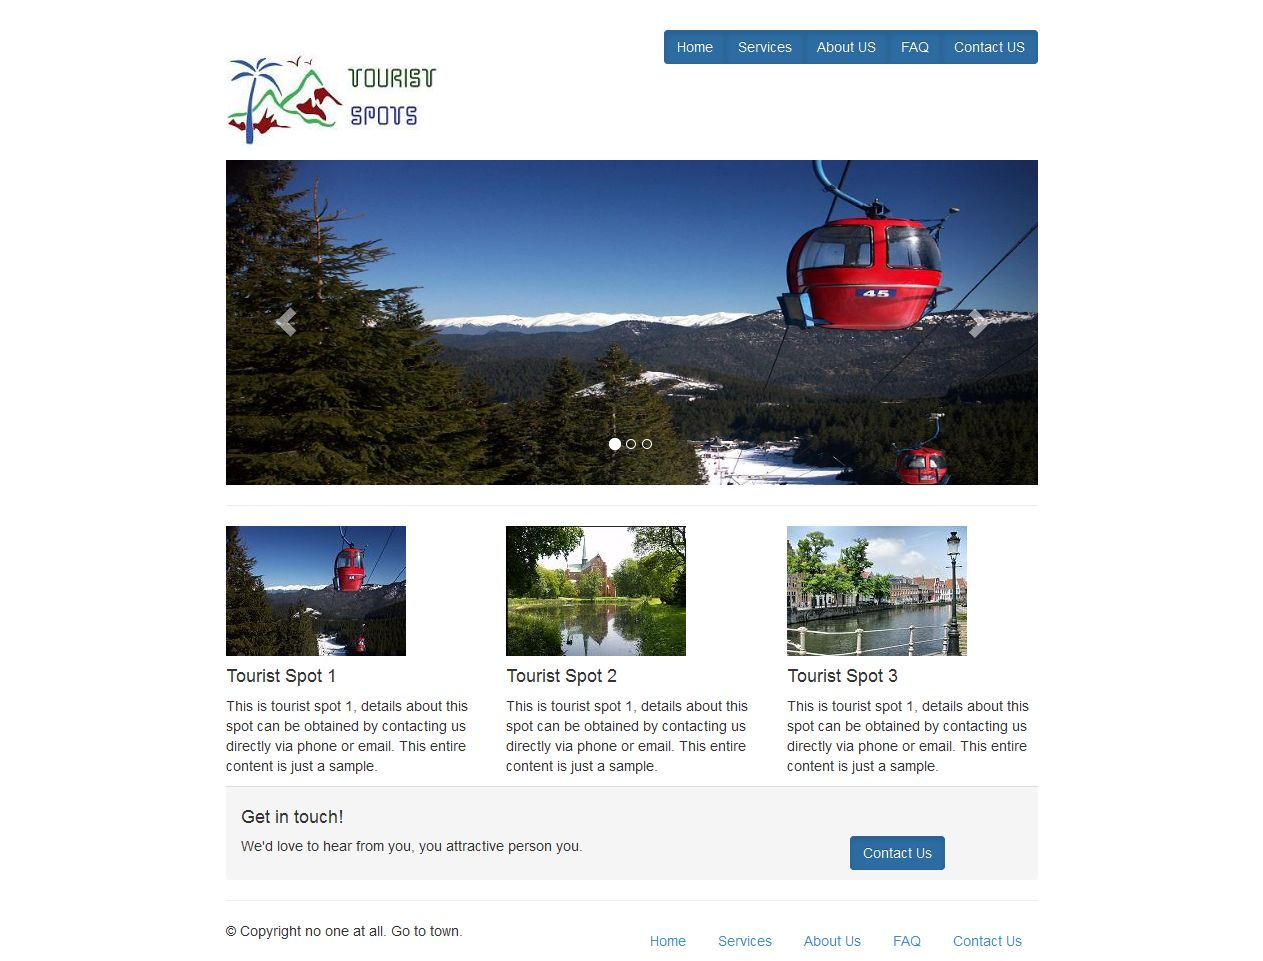button: (846, 830, 949, 874)
